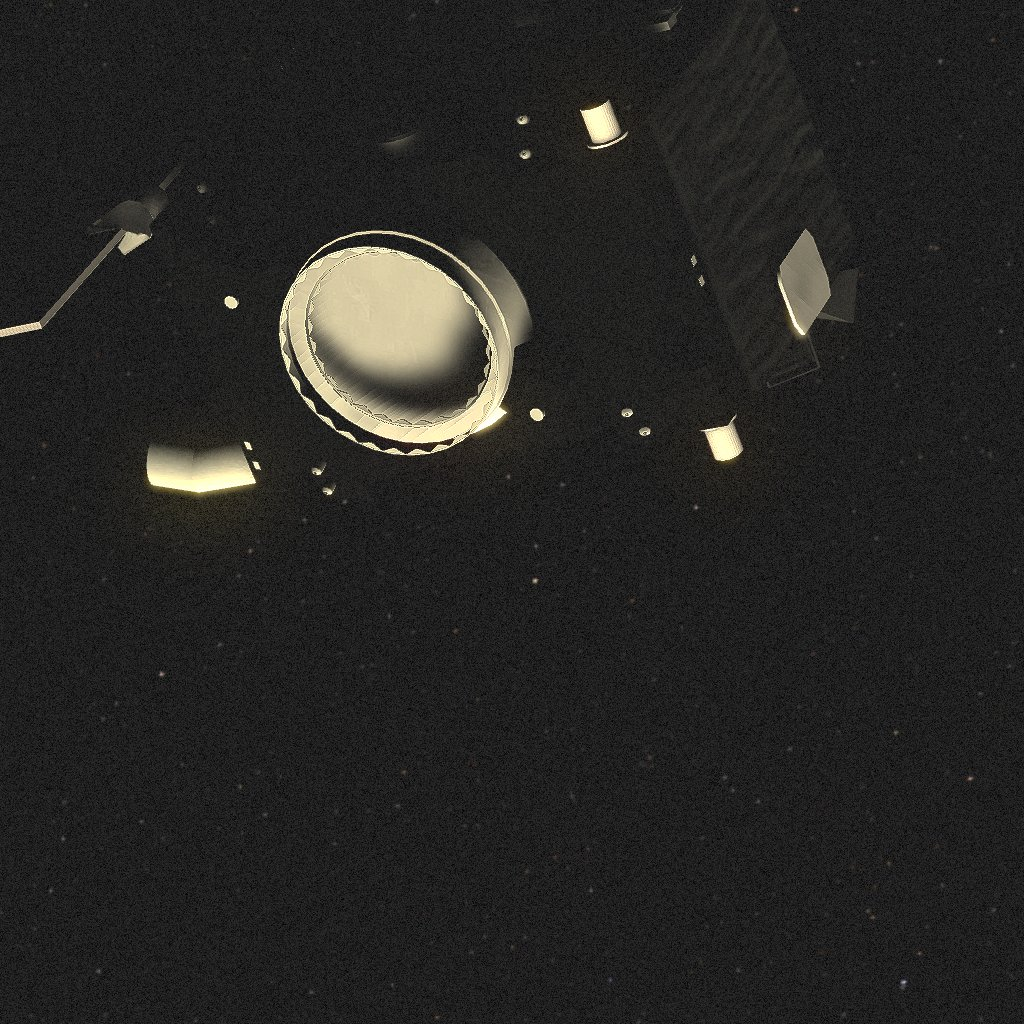proba_3_csc: (12, 20, 817, 530)
